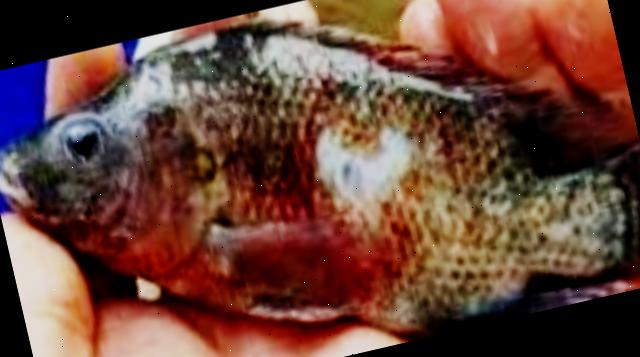Tilapia Lake Virus -TiLV-: (0, 23, 640, 328)
